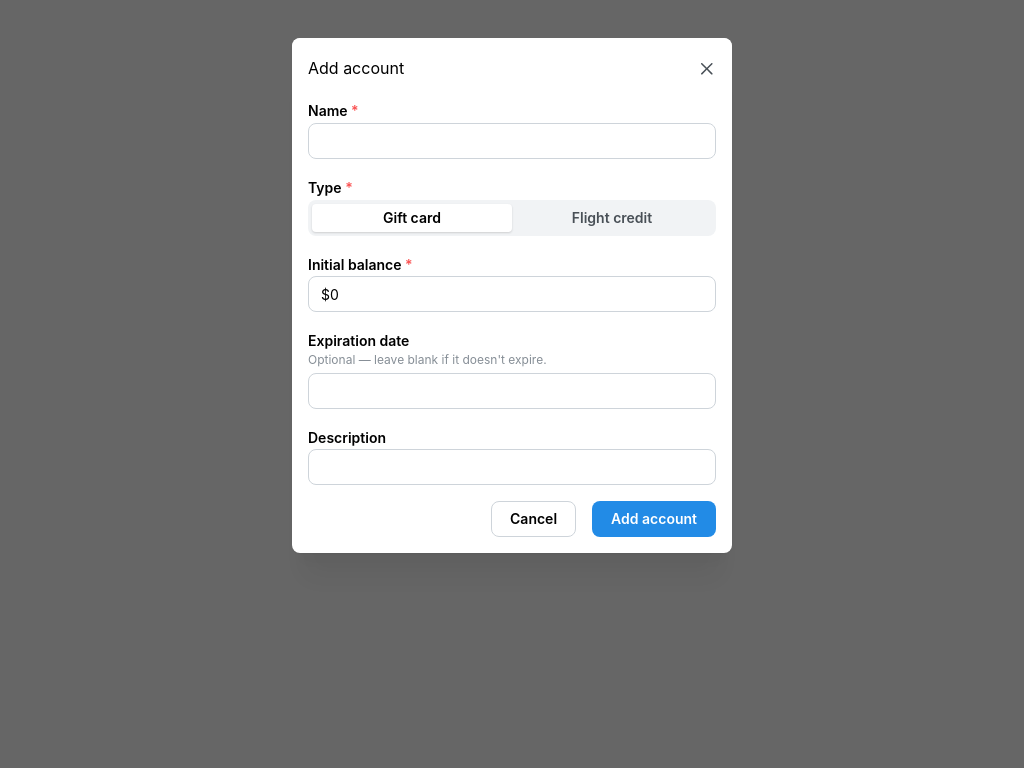
CreateAccountModal › shows an error when the account can't be created
Type "Amazon" into the field labelled "Name *". click: (512,141)
box: [308,123,716,159]
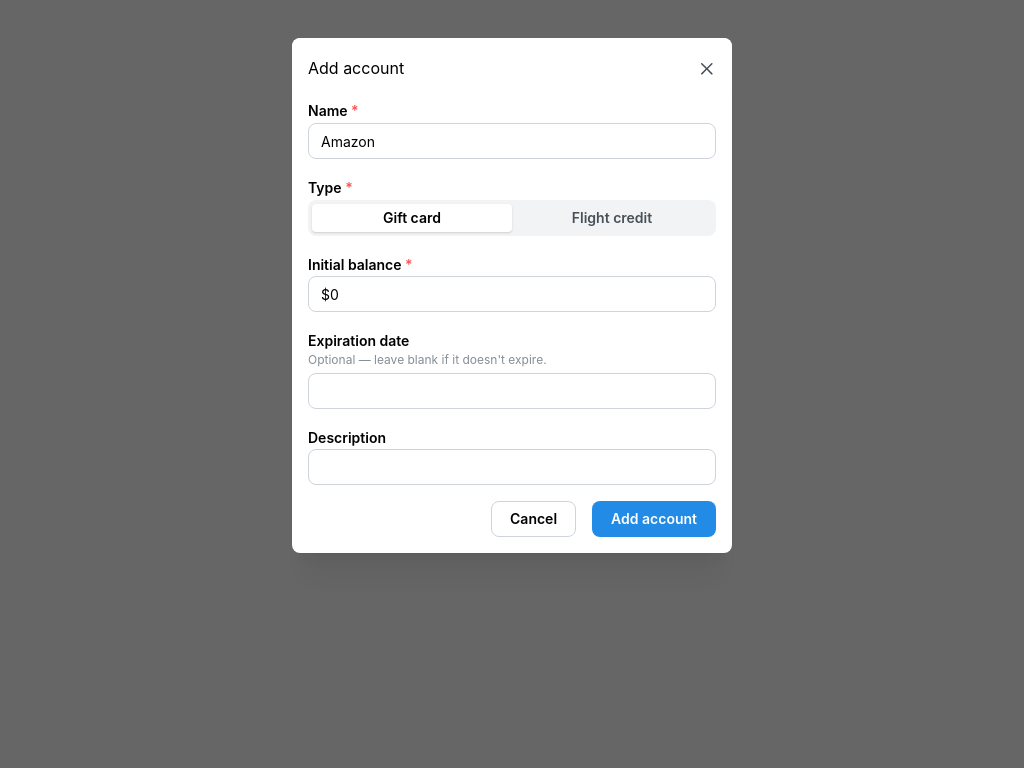
Click the button "Add account". click: (654,520)
box: [592,502,716,538]
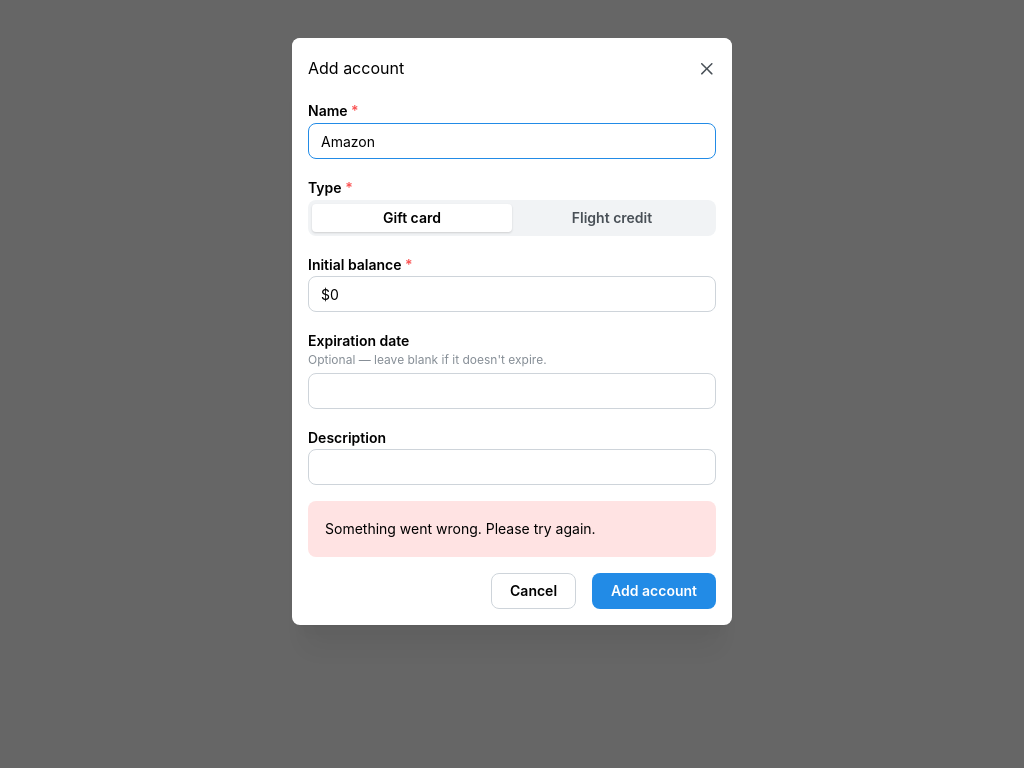
Expected: the message reads "Something went wrong. Please try again.", [325,520,596,538]
